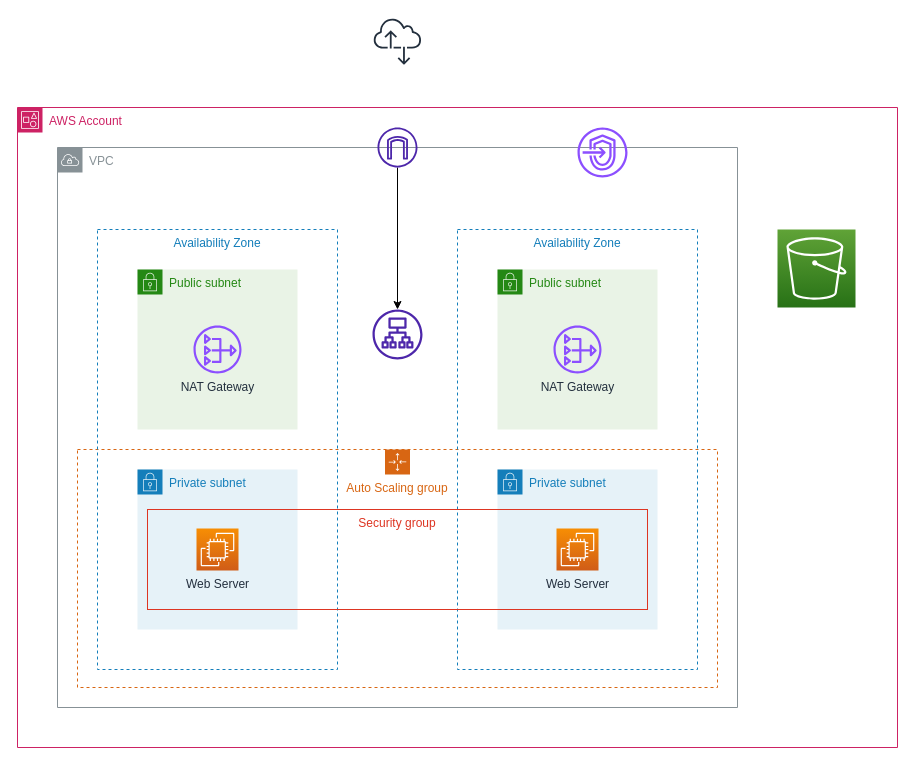
Image size: 915x765. Some labels were removed from this diagram. Each missing label, with the centre of its shape:
Application Load Balancer: (397,334)
Internet Gateway: (397,147)
Public Internet: (397,41)
S3 Gateway Endpoint: (602,152)
Website Files Bucket: (816,268)
